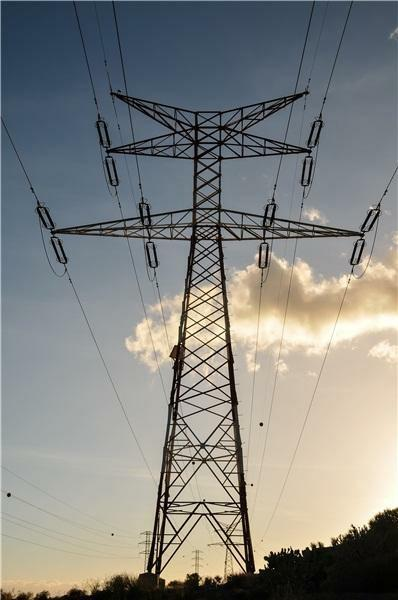power_tower: (46, 82, 381, 578)
